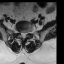CCS_normal: (22, 30, 24, 39)
LFS_stenosis: (26, 30, 29, 35)
LLS_normal: (24, 30, 26, 38)
RFS_severe_stenosis: (18, 29, 20, 35)
RLS_normal: (20, 30, 22, 38)
